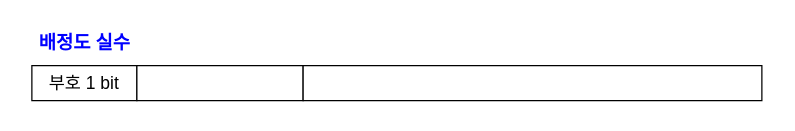
This 795x131 diagram has some shape labels left out. Each missing label, with the box of its shape:
가수 52 bit: (302, 64, 762, 101)
지수 11 bit: (136, 64, 303, 101)
